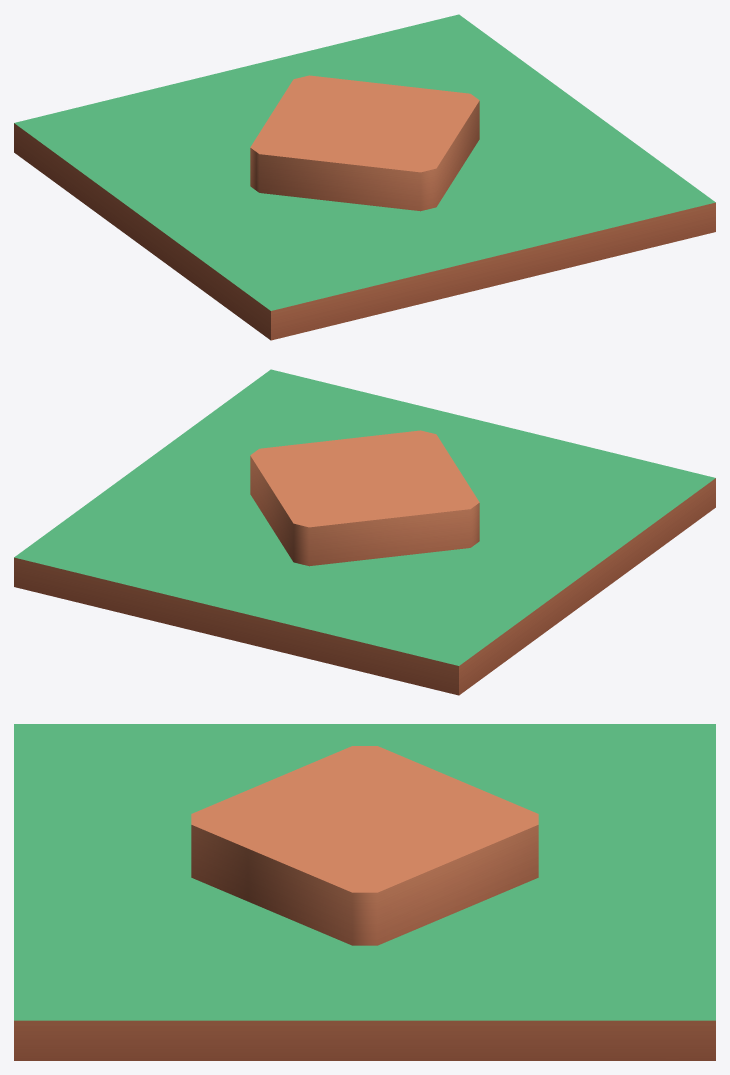
Rendered from obstacle-diamond.glb.
3 views of the same model, one above another, from view 1: azimuth 30°, elevation 25°; view 2: azimuth 150°, elevation 25°; view 3: azimuth 270°, elevation 25° (orthographic). The views are drawn at different scales.
Parts seen in each view (by area): view 1: obstacle-diamond; view 2: obstacle-diamond; view 3: obstacle-diamond.
Part boxes in pixels (x1,y1,x2,y2): obstacle-diamond: (14,14,715,340); obstacle-diamond: (14,369,715,695); obstacle-diamond: (14,724,715,1060).
Size of the model in its own units: 0.9999 by 0.1467 by 0.9999.
1 material, 1 textured.
